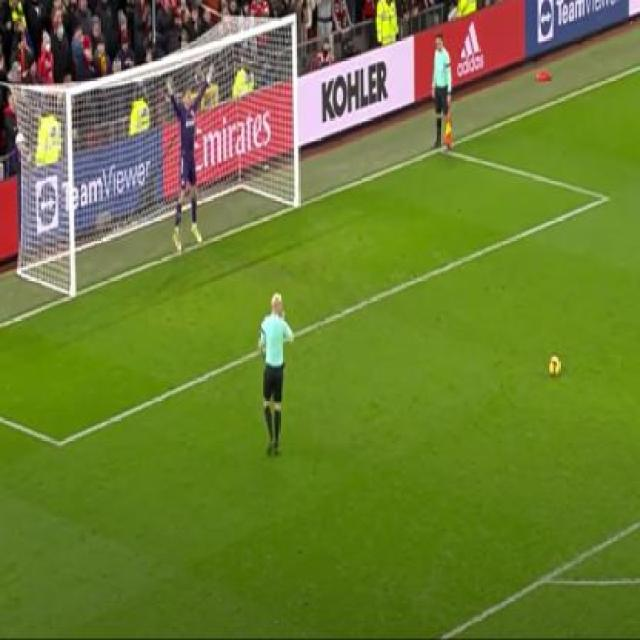arbitre: (252, 284, 298, 464), (421, 27, 472, 158)
ball: (543, 350, 570, 382)
cage: (6, 11, 299, 295)
gardien: (166, 81, 204, 246)
